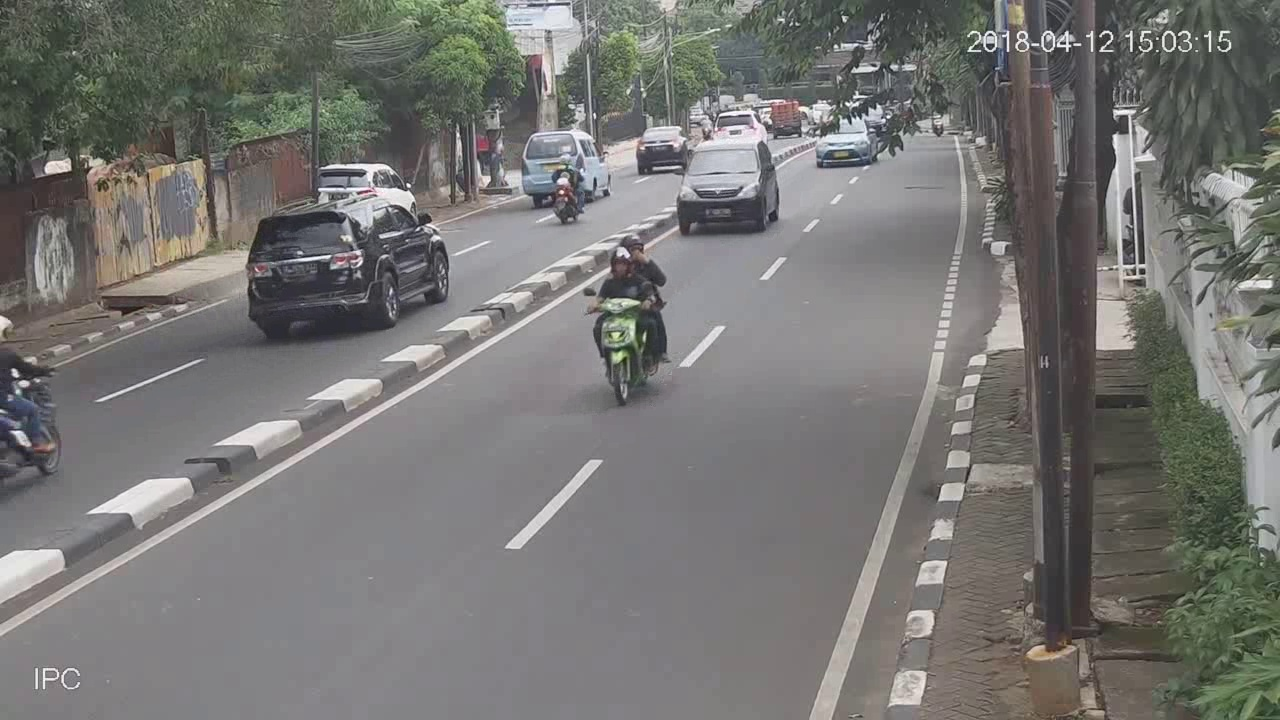car: (238, 191, 454, 338), (679, 140, 781, 236), (519, 126, 612, 205), (815, 120, 878, 164), (636, 122, 688, 174)
motorcycle: (579, 232, 675, 404), (551, 152, 587, 225)
